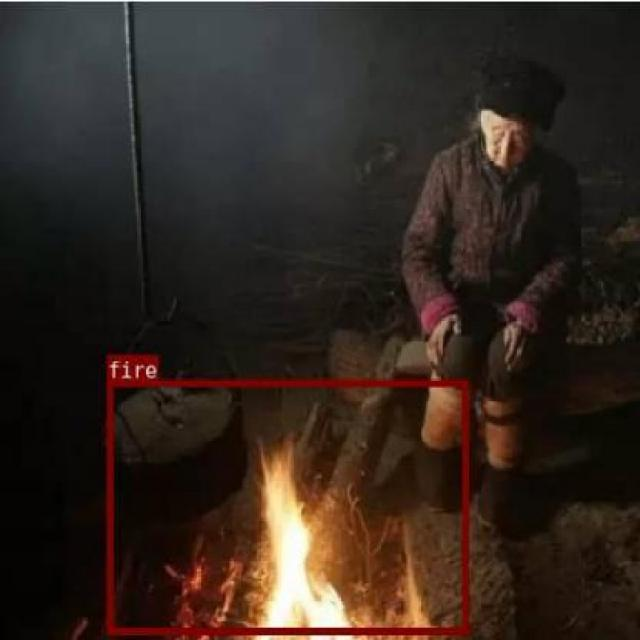Fire: (106, 379, 468, 633)
